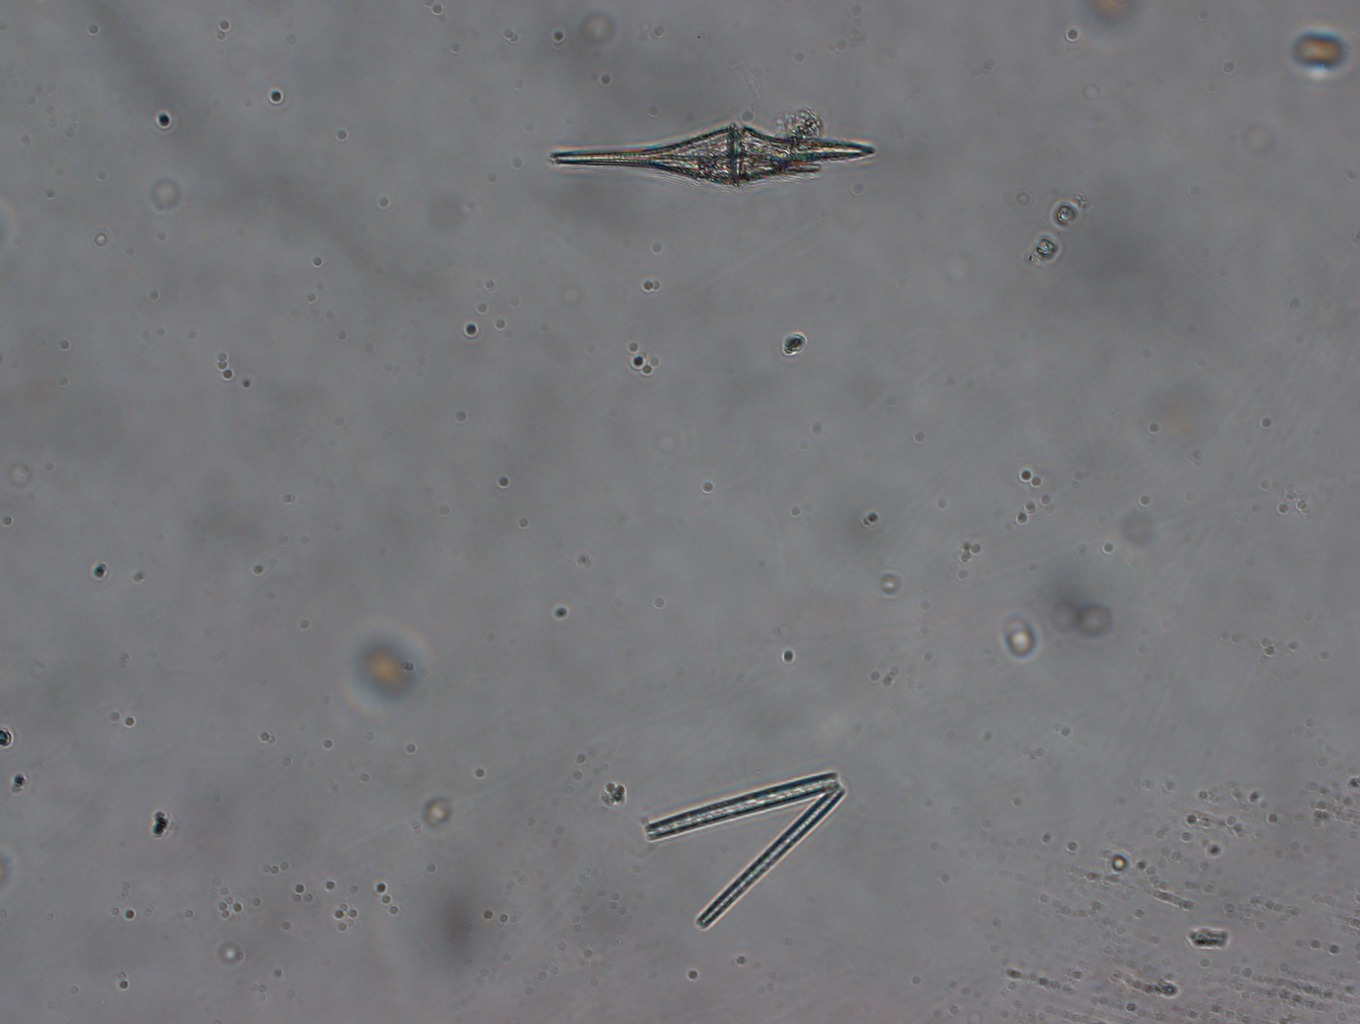ceratium furca: (544, 122, 877, 187)
thalassionema frauenfeldii: (643, 769, 845, 931)
